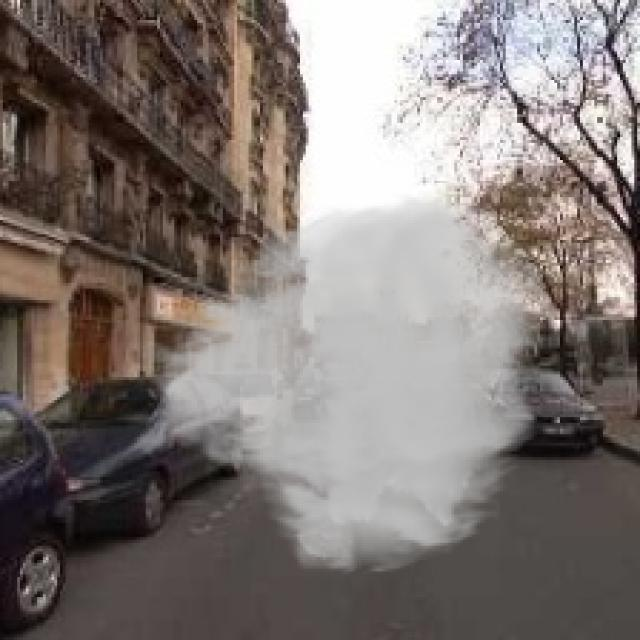smoke: (132, 189, 557, 577)
